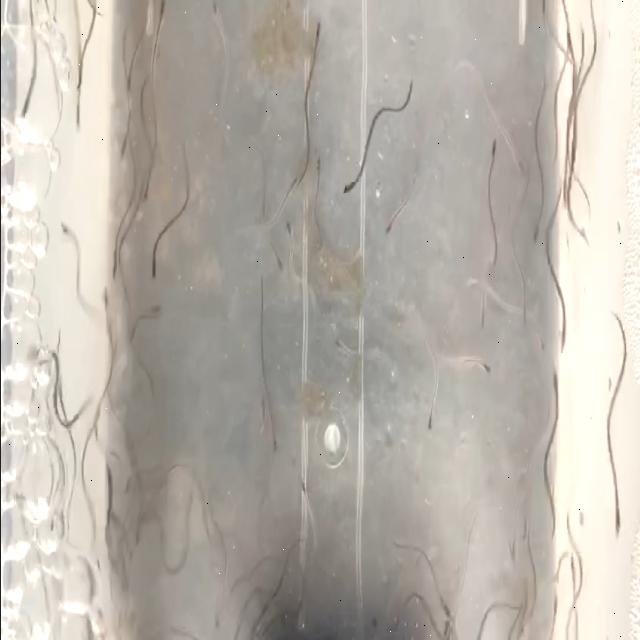active_glass_eel: (258, 425, 284, 471), (600, 505, 622, 556), (379, 194, 397, 256), (479, 339, 501, 381), (203, 0, 229, 31), (305, 12, 327, 48), (110, 130, 130, 166), (418, 407, 438, 442), (552, 316, 572, 350), (294, 475, 314, 509), (332, 334, 354, 364), (272, 232, 286, 278), (483, 128, 498, 170), (546, 368, 559, 416), (532, 320, 550, 352), (140, 170, 154, 210), (522, 222, 542, 248), (145, 254, 159, 291), (117, 71, 131, 105), (156, 0, 170, 34), (94, 289, 112, 315), (122, 322, 135, 357), (107, 247, 122, 277), (514, 145, 524, 190), (312, 148, 324, 184), (563, 30, 577, 60), (58, 216, 75, 240), (516, 302, 529, 330), (335, 182, 354, 200), (282, 209, 292, 236)
